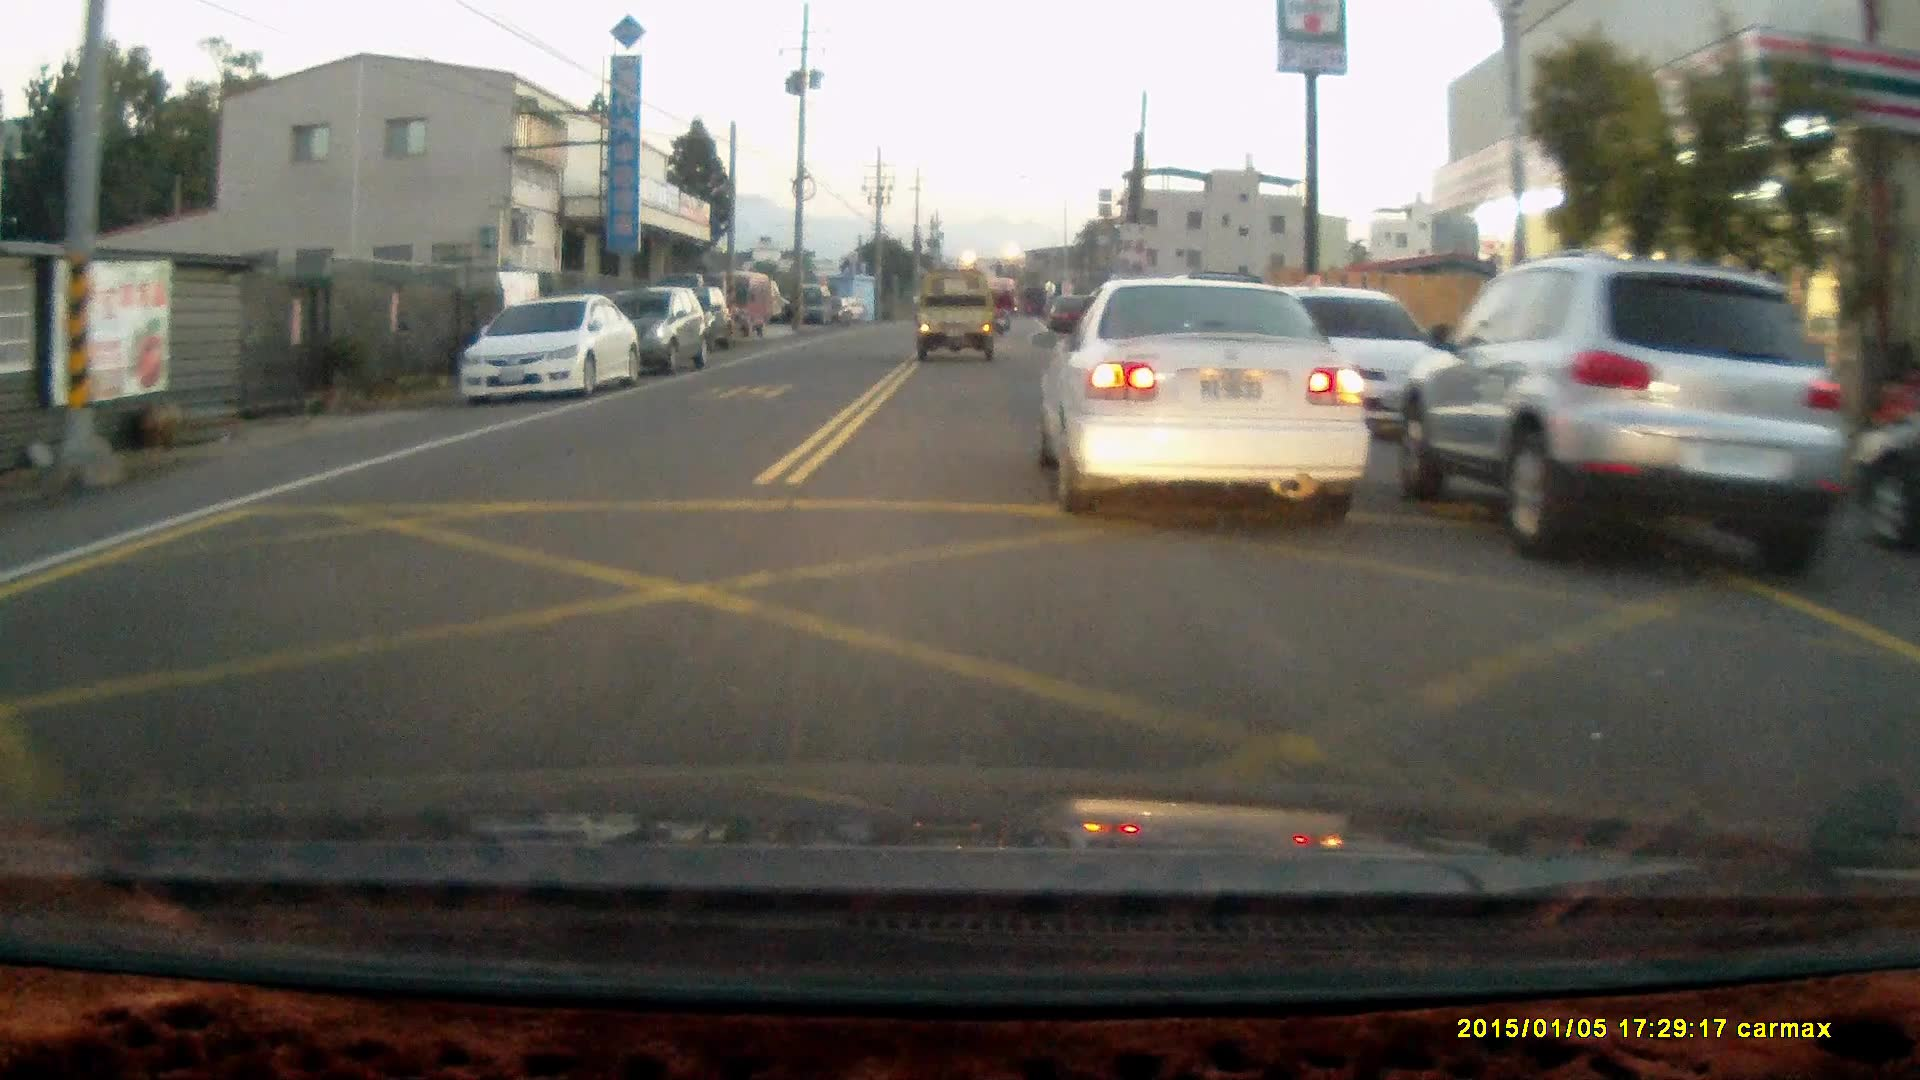rider: (988, 286, 1014, 336)
vehicle: (1393, 263, 1832, 579), (1041, 278, 1372, 516), (460, 295, 638, 413), (596, 295, 711, 383), (914, 270, 1001, 366), (633, 284, 734, 360), (715, 272, 779, 341)
